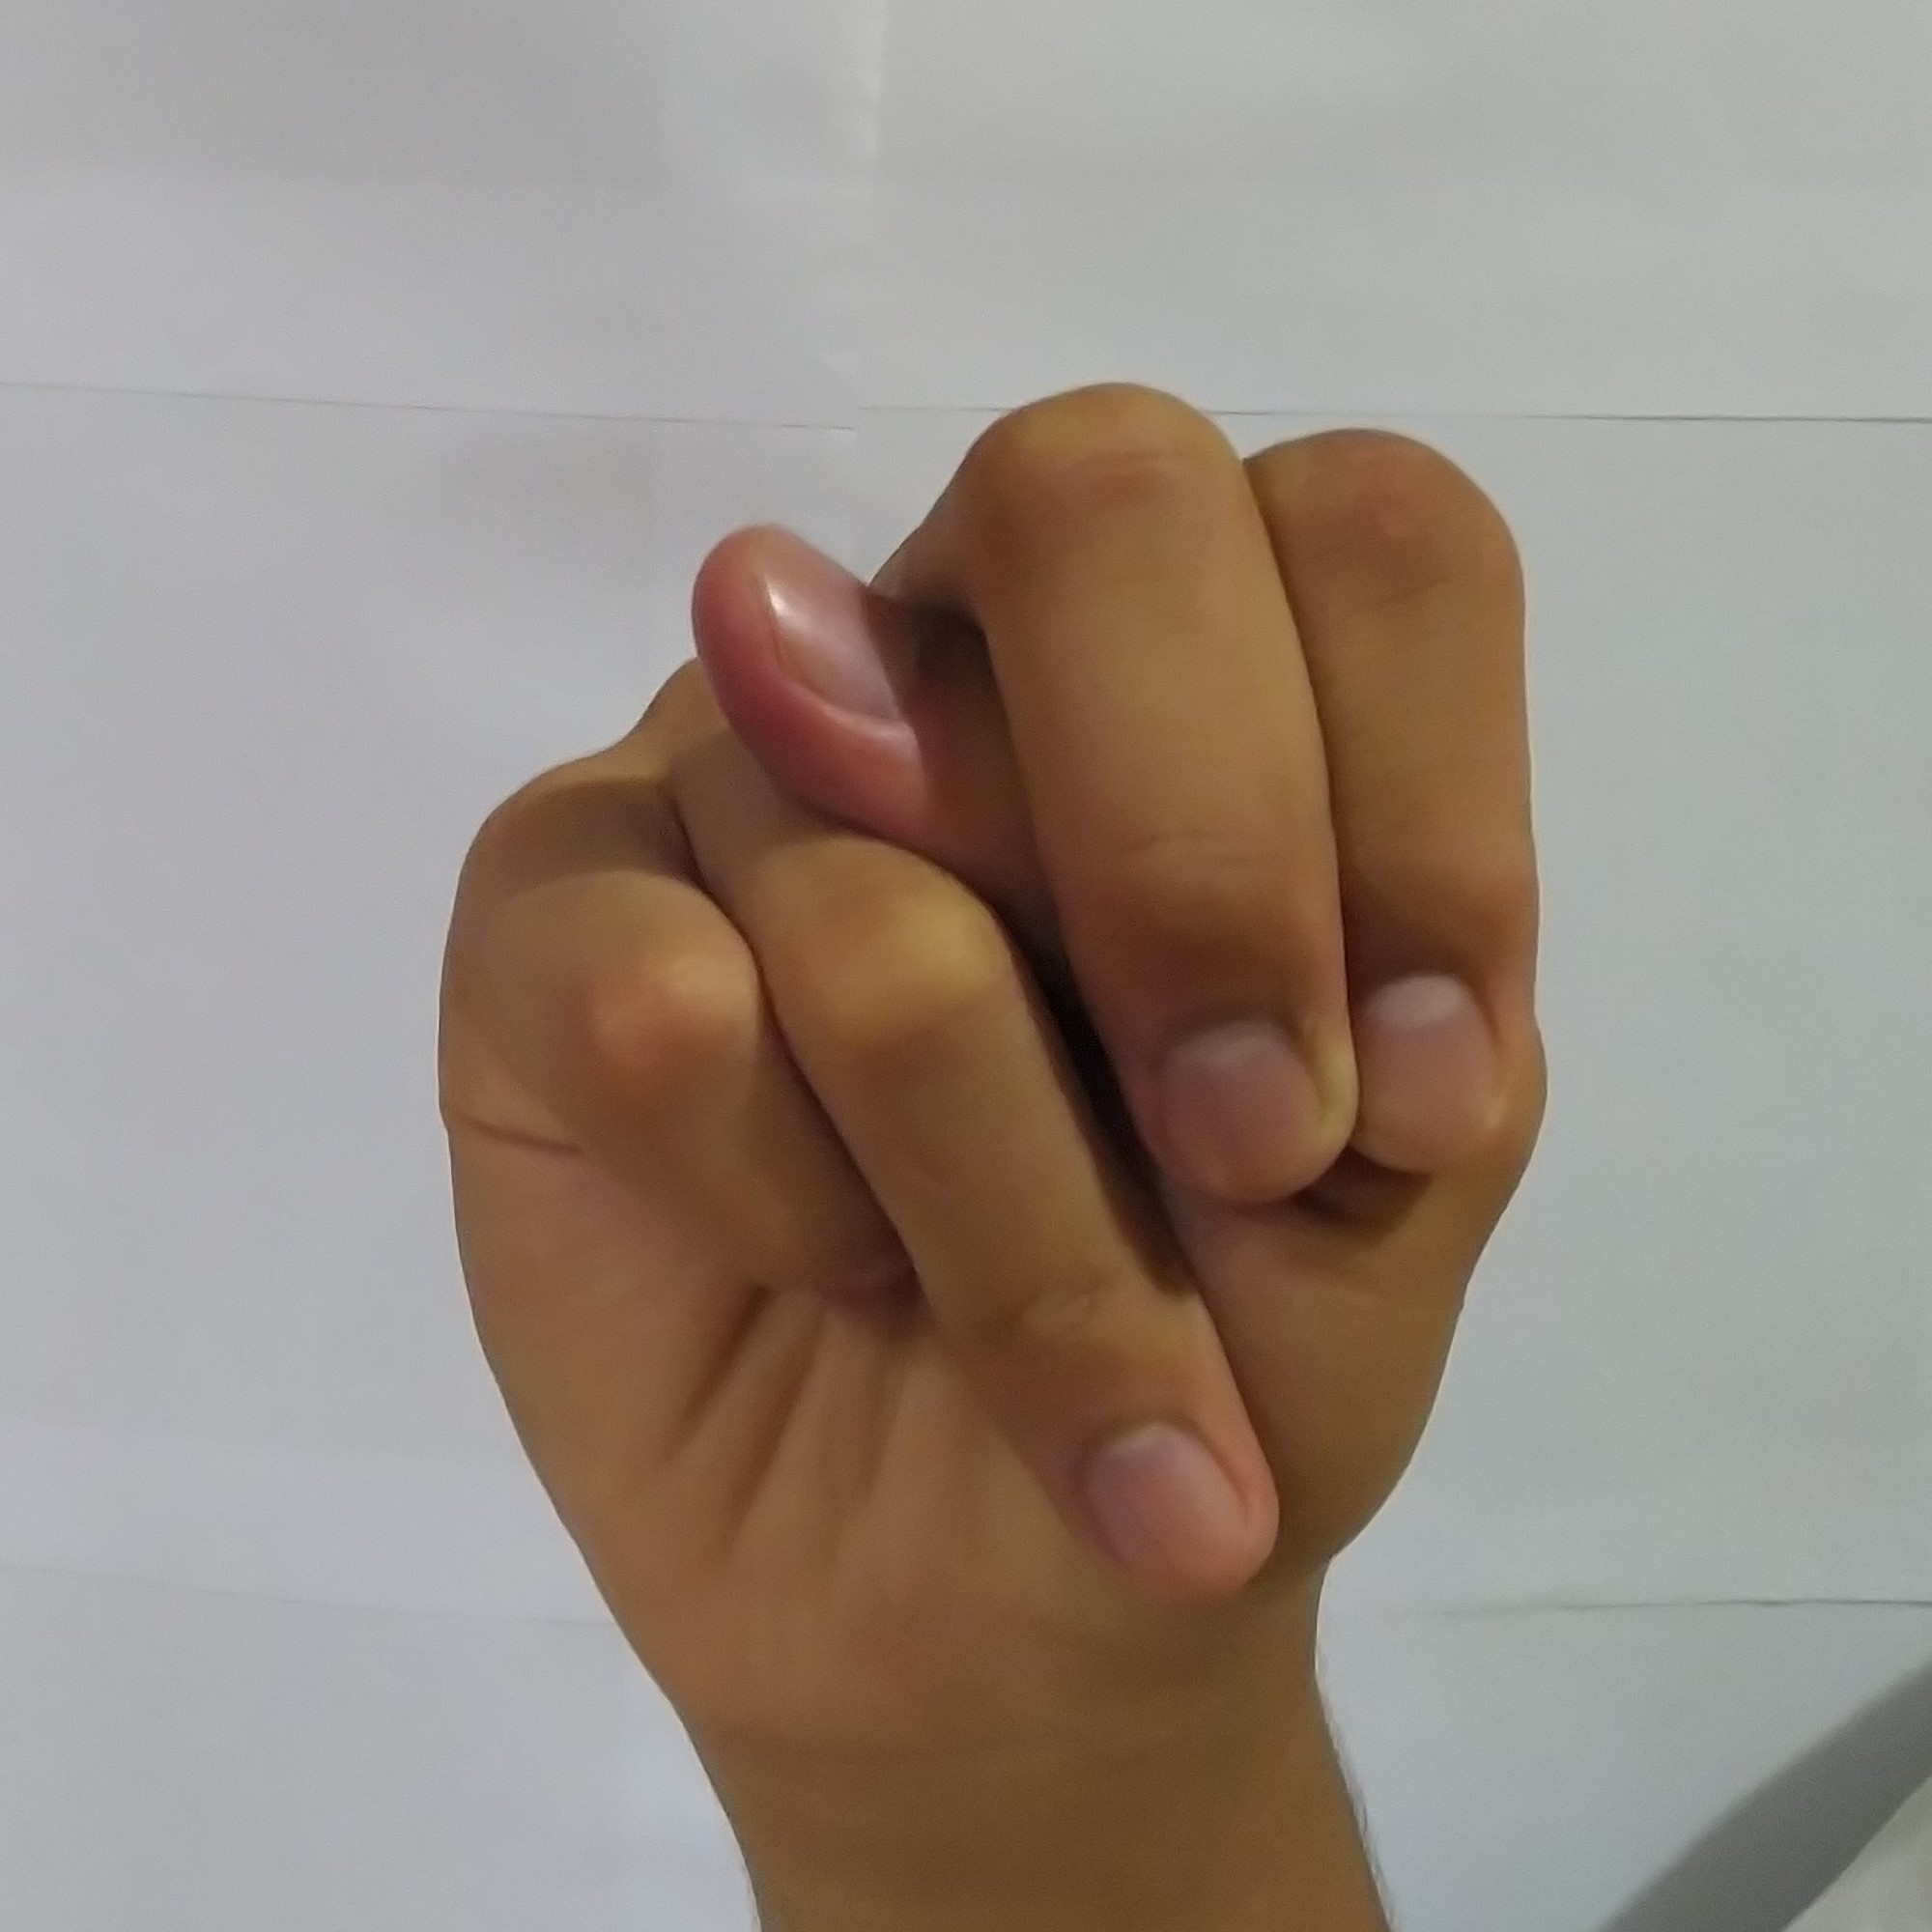N: (400, 356, 1578, 1698)
